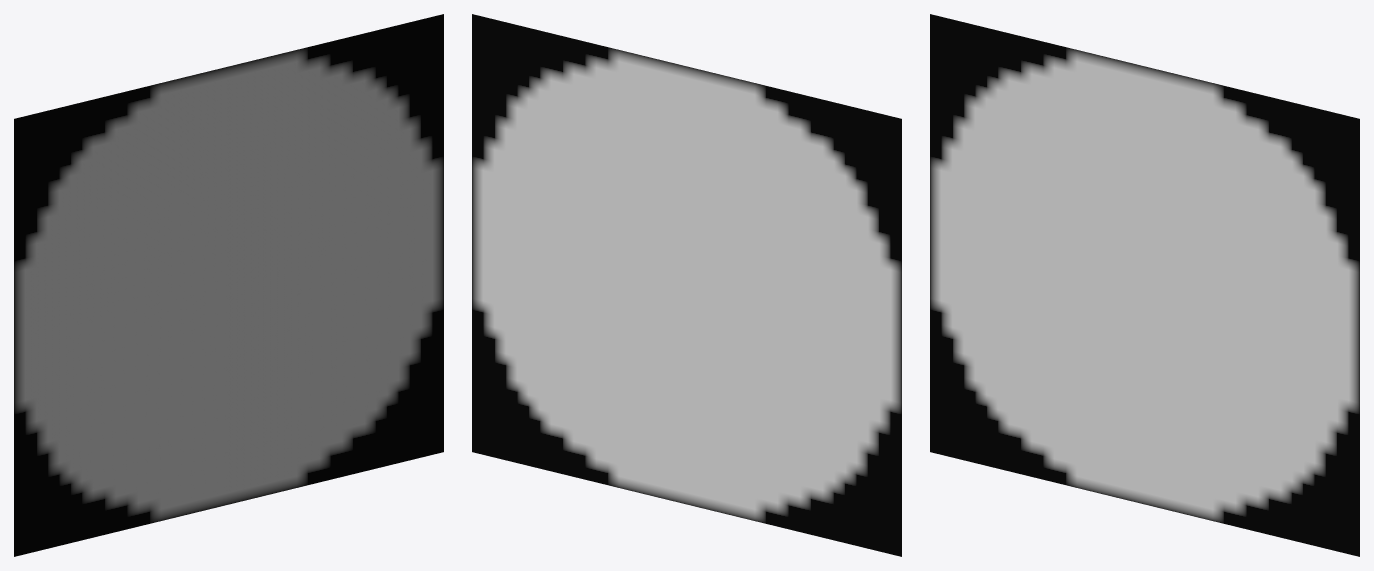
3 renders of one model, left to right at view 1: azimuth 30°, elevation 25°; view 2: azimuth 150°, elevation 25°; view 3: azimuth 330°, elevation 25°, orthographic.
Parts seen in each view (by area): view 1: Joint_0_Object_0; view 2: Joint_0_Object_0; view 3: Joint_0_Object_0.
Part boxes in pixels (left/top/right/bottom): Joint_0_Object_0: left=14, top=14, right=443, bottom=556; Joint_0_Object_0: left=472, top=14, right=901, bottom=556; Joint_0_Object_0: left=930, top=14, right=1359, bottom=556.
Size of the model in its own units: 15.2 by 14.8 by 0.
1 material, 1 textured.
